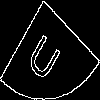U: (25, 24, 67, 85)
